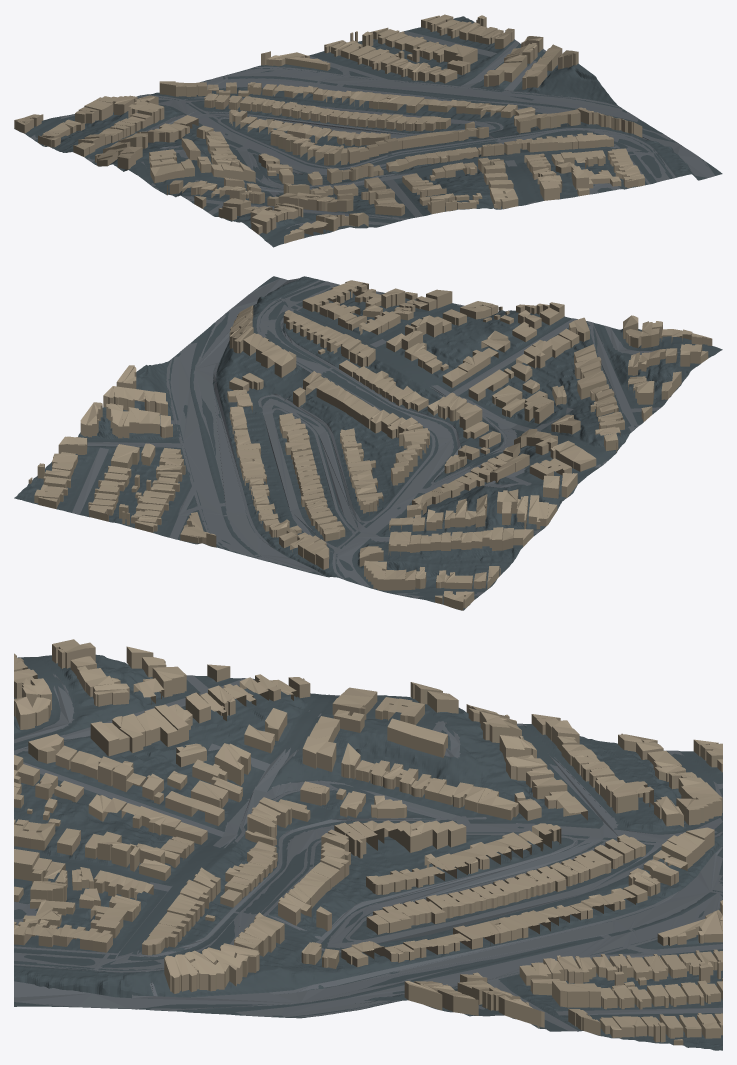
Rendered from epsg26910-1439-10870.lod0.glb.
The picture shows the model from 3 angles, top to bottom: view 1: azimuth 30°, elevation 25°; view 2: azimuth 150°, elevation 25°; view 3: azimuth 270°, elevation 25°; orthographic projection. The views are drawn at different scales.
Parts seen in each view (by area): view 1: epsg26910-1439-10870-lod0; view 2: epsg26910-1439-10870-lod0; view 3: epsg26910-1439-10870-lod0.
Part boxes in pixels (x1,y1,x2,y2): epsg26910-1439-10870-lod0: (14,14,722,247); epsg26910-1439-10870-lod0: (14,276,722,610); epsg26910-1439-10870-lod0: (14,639,722,1050).
Bounding box in the file's own units: 384 × 70.86 × 384.
